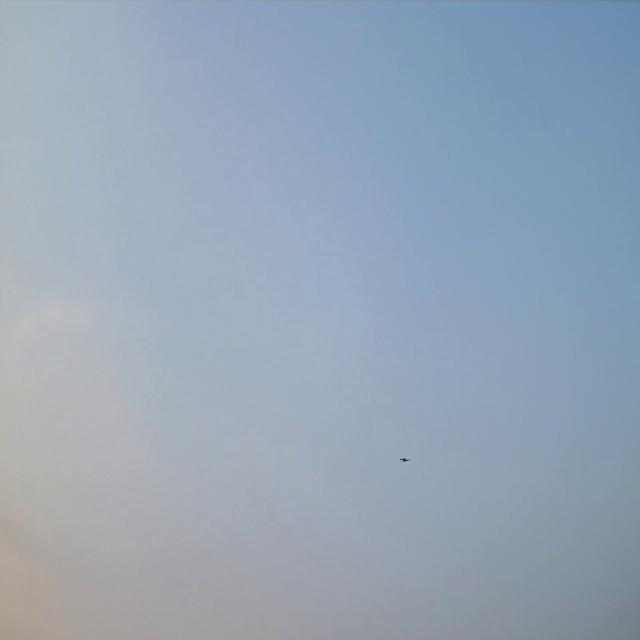UAV: (399, 457, 411, 464)
